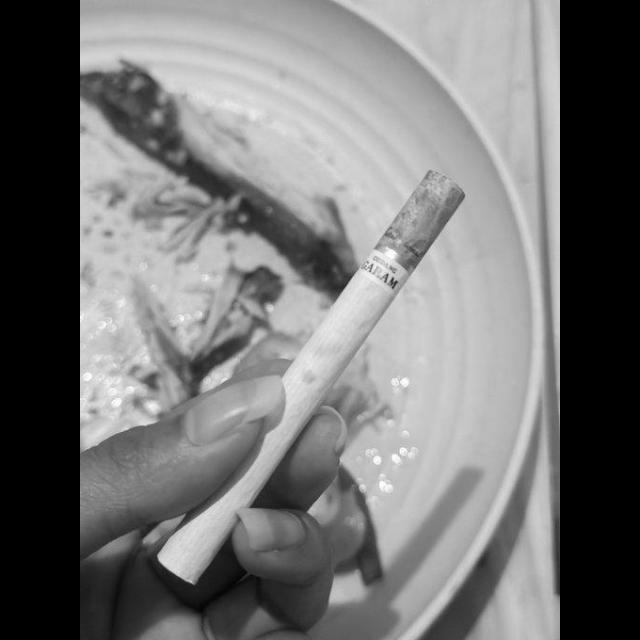rokok: (154, 164, 472, 588)
